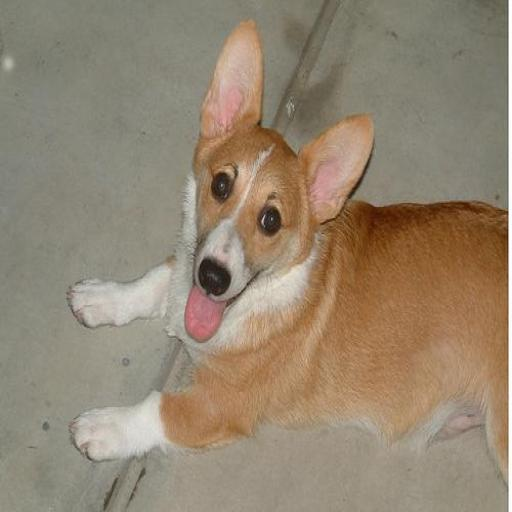dog_face: (172, 28, 373, 317)
